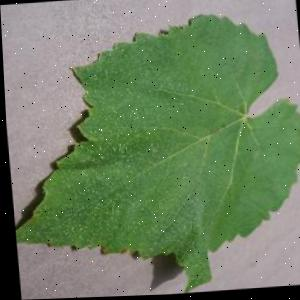Folha: (1, 8, 300, 300)
